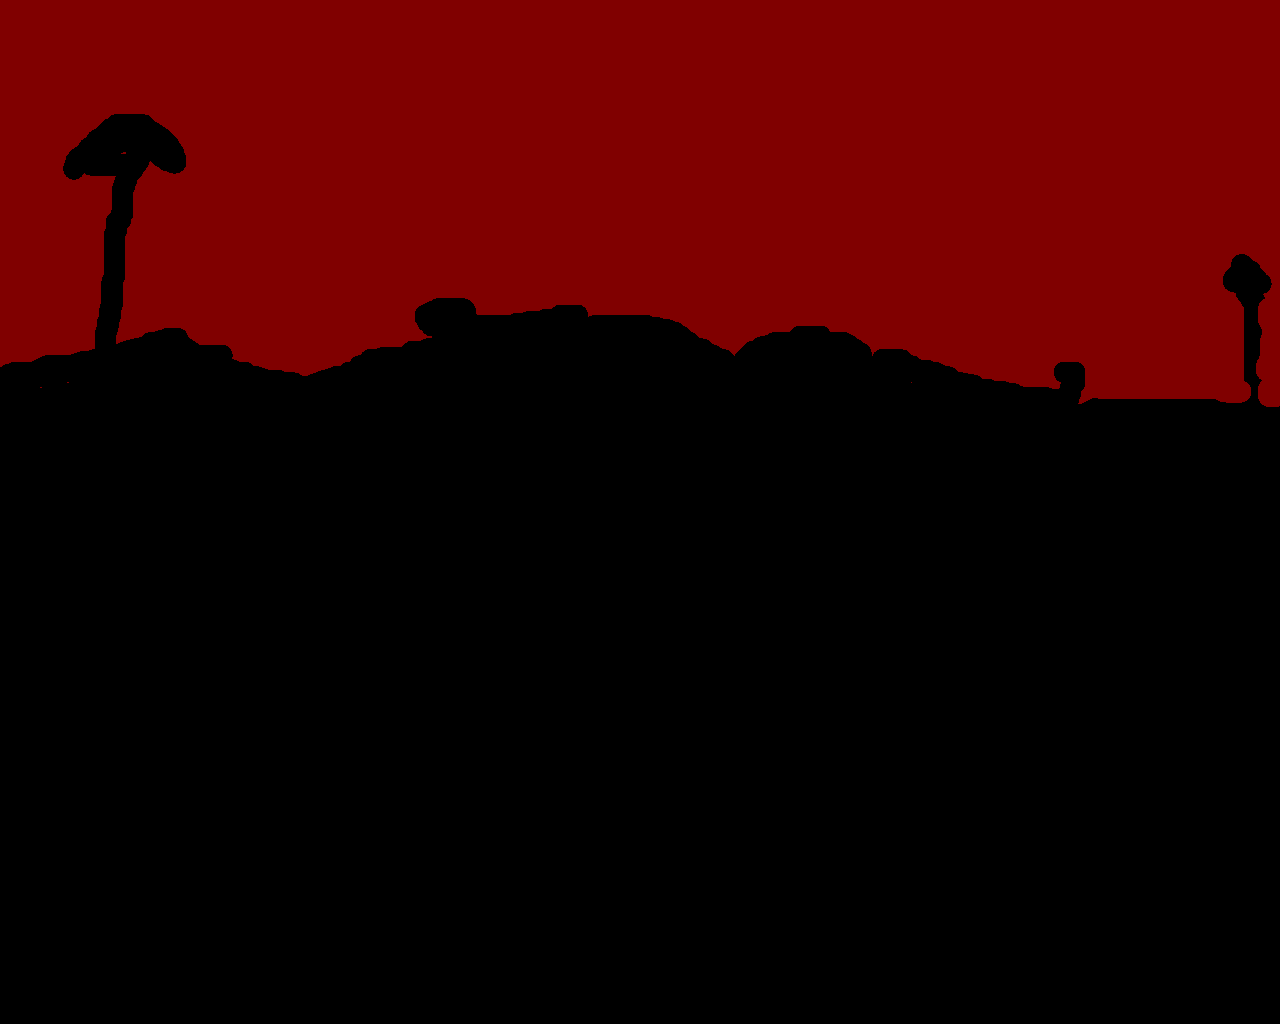Sky: (1, 1, 1279, 408)
